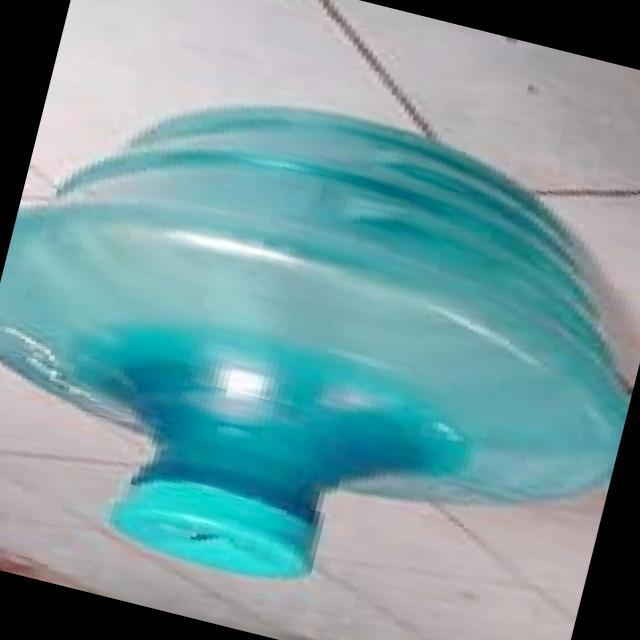HDPE Plastic: (0, 100, 636, 580)
